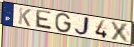4: (94, 19, 108, 39)
E: (34, 9, 53, 32)
G: (54, 13, 72, 34)
J: (73, 16, 91, 37)
K: (18, 7, 32, 28)
X: (110, 21, 132, 44)
